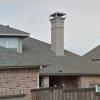Chimney: (44, 7, 69, 54)
